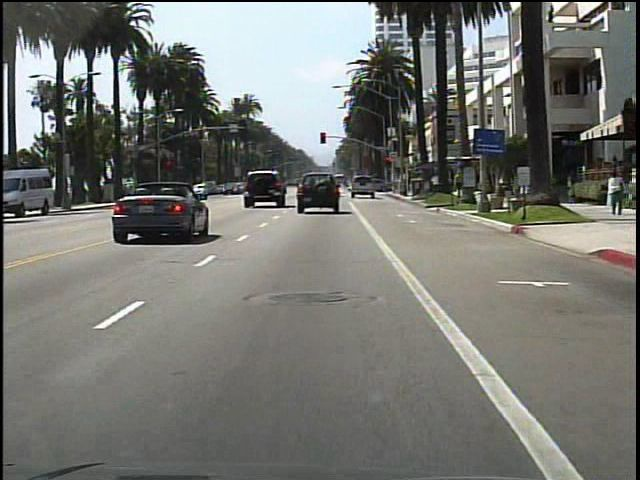person: (603, 168, 623, 217), (428, 171, 442, 196)
